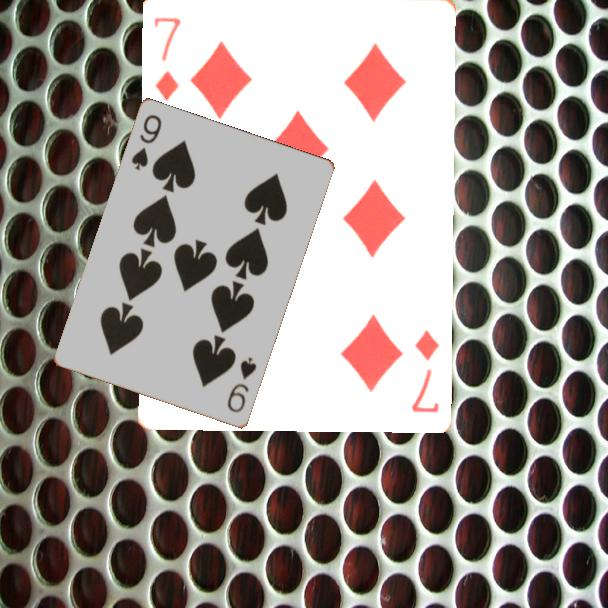d07: (407, 326, 442, 415), (150, 13, 183, 103)
s09: (128, 111, 165, 173), (224, 354, 260, 416)
